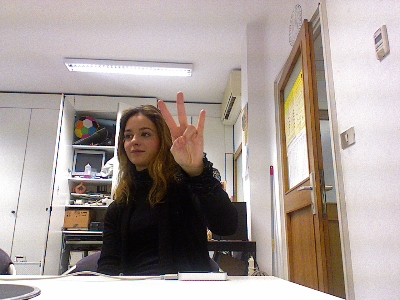观音: (156, 90, 206, 171)
